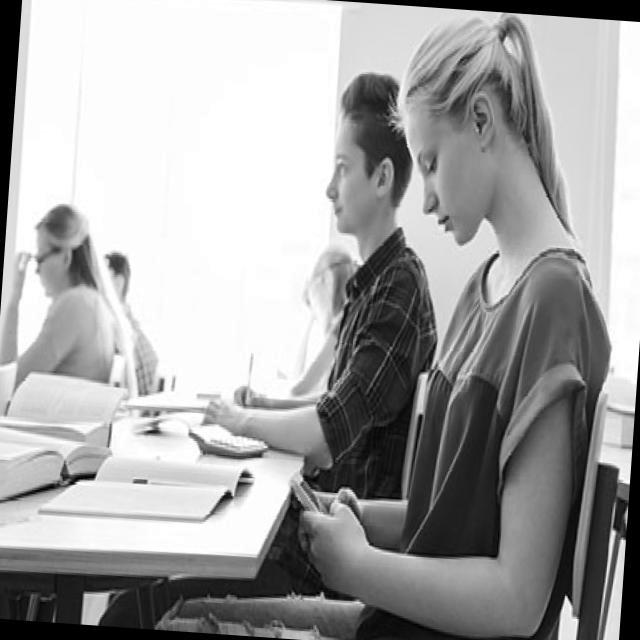phone: (288, 469, 332, 516), (17, 250, 30, 272)
